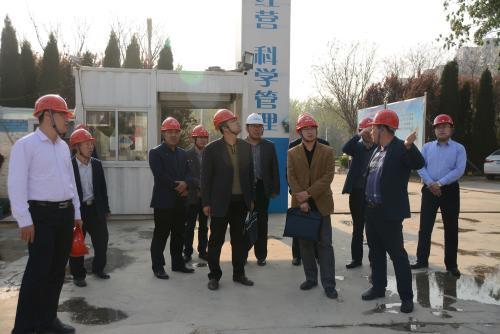helmet: (34, 90, 76, 140), (371, 107, 403, 145), (295, 109, 323, 143), (69, 125, 97, 157), (159, 115, 185, 149), (212, 108, 243, 136), (430, 112, 456, 142), (244, 112, 268, 140), (191, 121, 212, 149), (357, 115, 373, 144)
